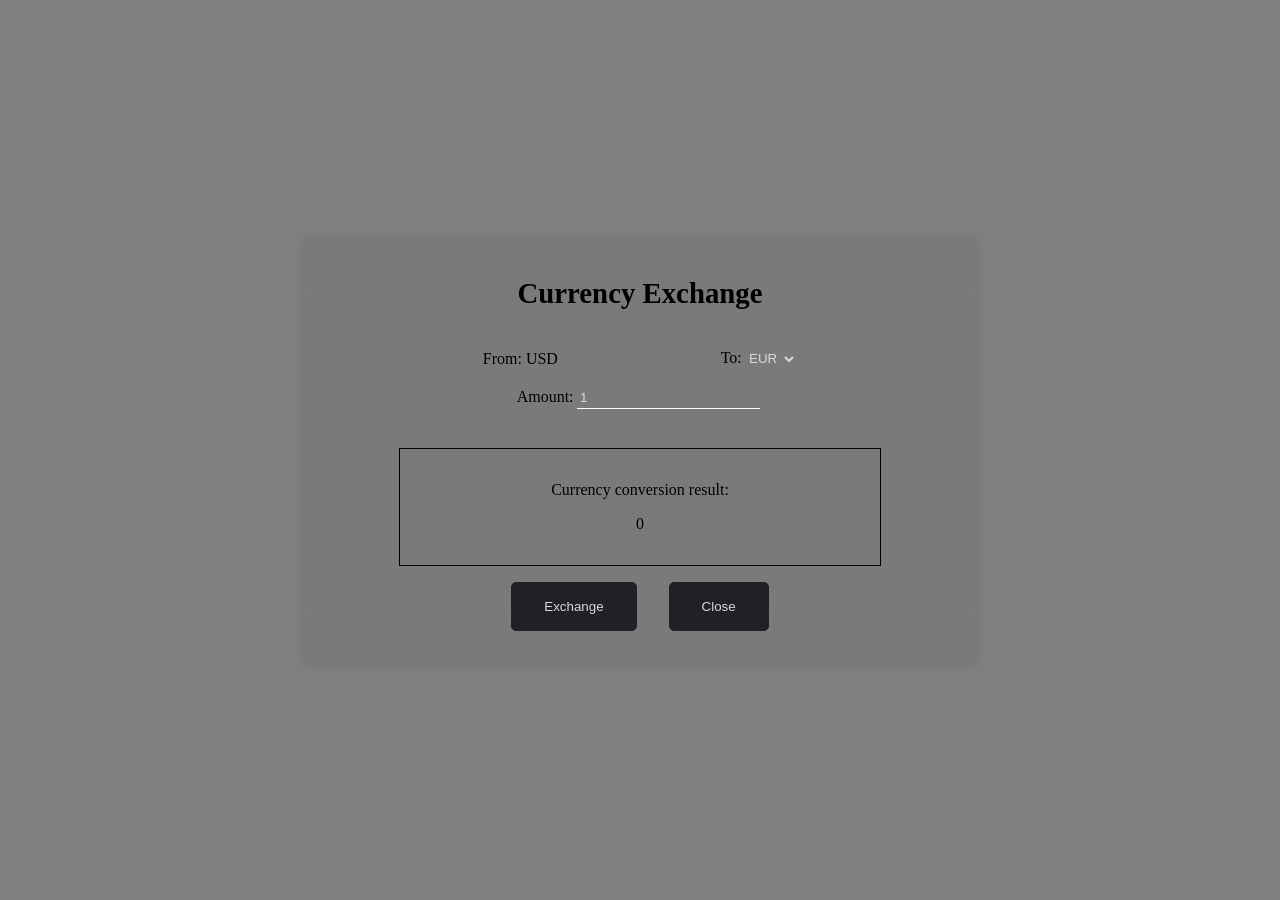
ConversionModal › validates input amount
Step 1. Replace the text in the number field labelled "Amount:" with "0" → point(668, 398), box x1=577 y1=387 x2=760 y2=410
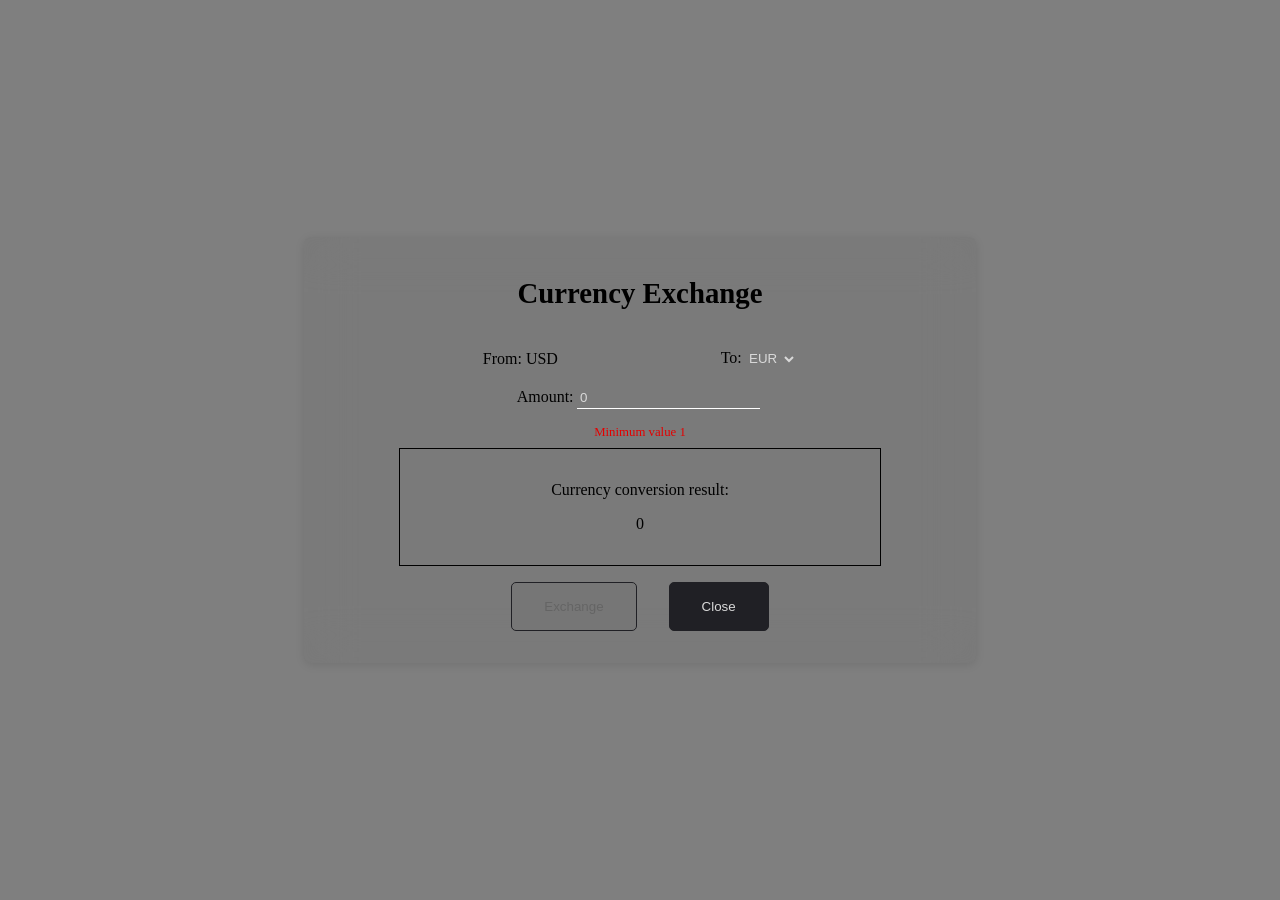
Now the text "Minimum value 1" is shown, box x1=594 y1=425 x2=686 y2=439
Step 2. Replace the text in the number field labelled "Amount:" with "1000001" → point(668, 398), box x1=577 y1=387 x2=760 y2=410
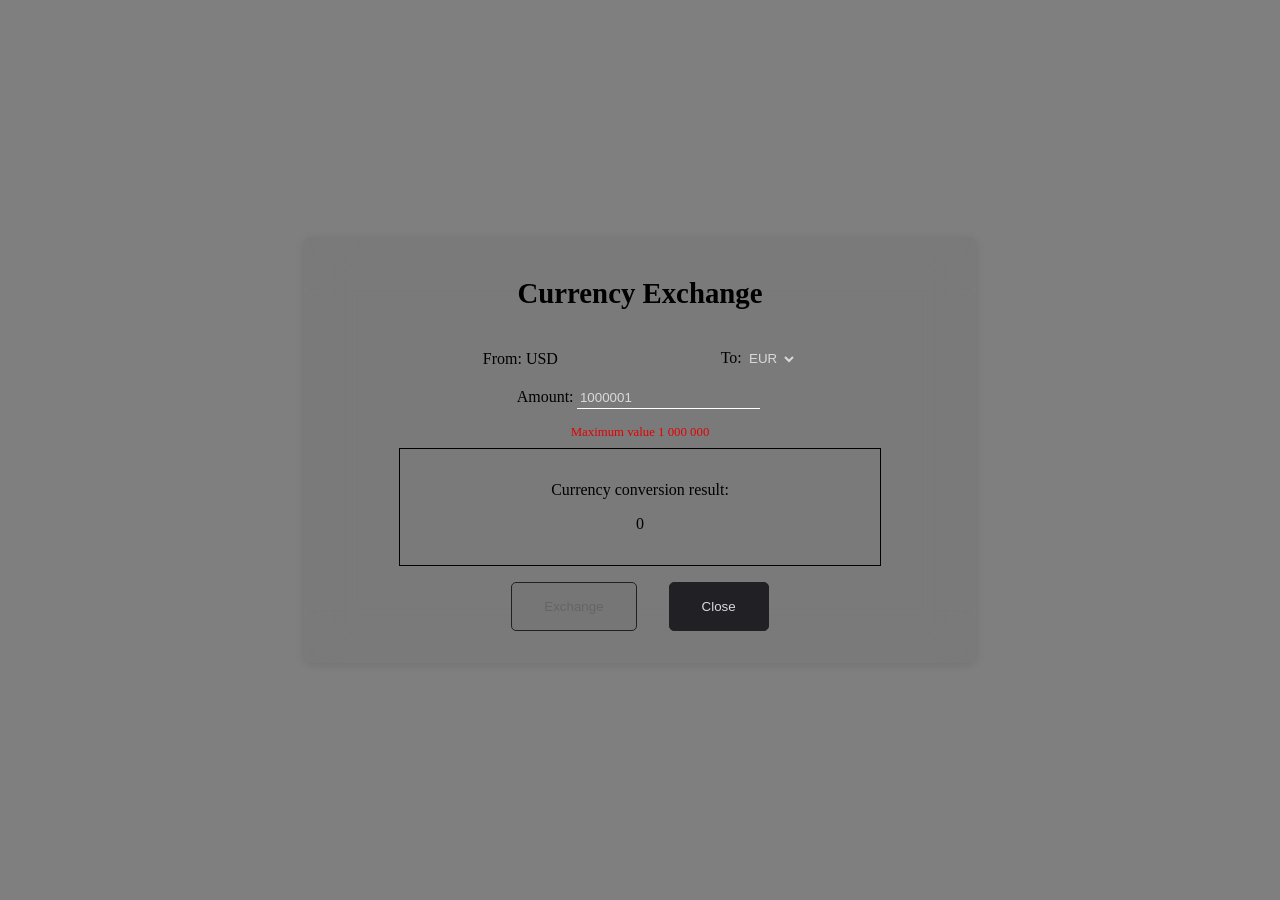
Now the text "Maximum value 1 000 000" is shown, box x1=571 y1=425 x2=709 y2=439
